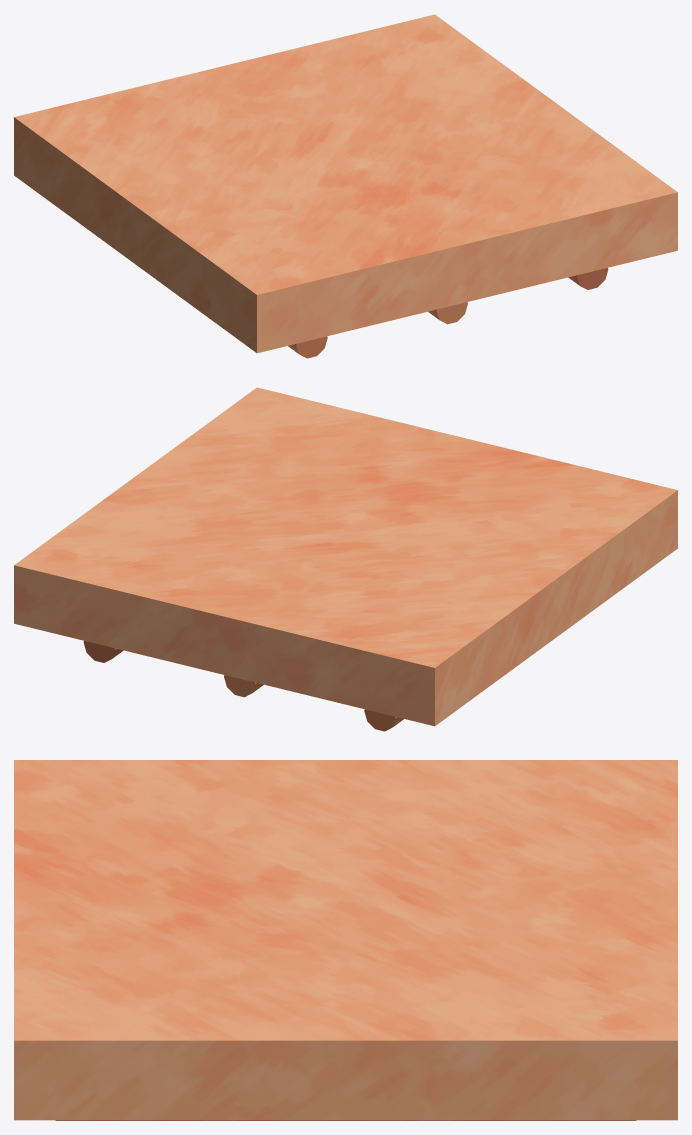
File: roof.fbx
3 renders of one model, top to bottom at view 1: azimuth 30°, elevation 25°; view 2: azimuth 150°, elevation 25°; view 3: azimuth 270°, elevation 25°, orthographic. The views are drawn at different scales.
Visible parts, largest first — view 1: roof; view 2: roof; view 3: roof.
Boxes of the visible parts, box(x1,y1,x2,y2) form: roof: box(14, 14, 677, 358); roof: box(14, 387, 677, 731); roof: box(14, 760, 677, 1120).
Size of the model in its own units: 8 by 1.65 by 8.
Materials: 1 (1 with a texture image).
